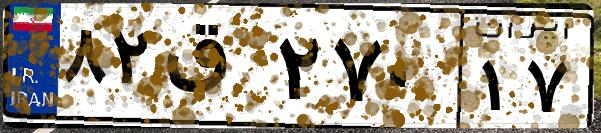0: (385, 28, 445, 110)
1: (475, 38, 525, 113)
2: (270, 28, 330, 110), (110, 28, 158, 98)
7: (330, 28, 385, 110), (525, 38, 570, 115)
8: (57, 26, 110, 100)
ق: (158, 20, 270, 120)
